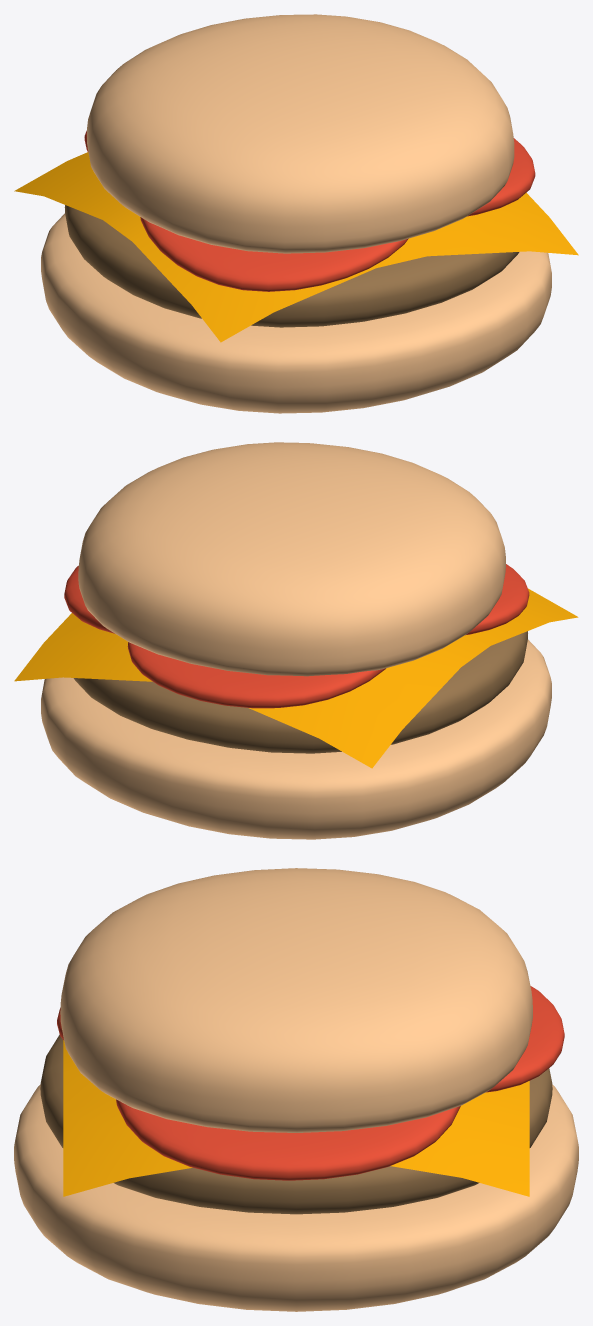
The model's file is burger.glb.
3 renders of one model, top to bottom at view 1: azimuth 30°, elevation 25°; view 2: azimuth 150°, elevation 25°; view 3: azimuth 270°, elevation 25°, orthographic. The views are drawn at different scales.
Visible parts, largest first — view 1: Cube.001, Cube, Plane, Cube.002, Cube.004, Cube.003; view 2: Cube.001, Cube, Plane, Cube.002, Cube.005, Cube.004, Cube.003; view 3: Cube.001, Cube, Plane, Cube.002, Cube.003, Cube.005.
Part boxes in pixels (x1=…): Cube.001: x1=87, y1=14, x2=514, y2=253; Cube: x1=41, y1=213, x2=551, y2=413; Plane: x1=14, y1=152, x2=578, y2=342; Cube.002: x1=64, y1=205, x2=519, y2=327; Cube.004: x1=140, y1=217, x2=408, y2=291; Cube.003: x1=467, y1=138, x2=535, y2=216; Cube.001: x1=78, y1=442, x2=505, y2=676; Cube: x1=41, y1=639, x2=551, y2=839; Plane: x1=14, y1=588, x2=578, y2=768; Cube.002: x1=73, y1=631, x2=527, y2=753; Cube.005: x1=127, y1=642, x2=385, y2=708; Cube.004: x1=465, y1=564, x2=529, y2=635; Cube.003: x1=64, y1=566, x2=114, y2=633; Cube.001: x1=60, y1=868, x2=532, y2=1132; Cube: x1=14, y1=1084, x2=578, y2=1311; Plane: x1=63, y1=1040, x2=529, y2=1196; Cube.002: x1=40, y1=1034, x2=552, y2=1214; Cube.003: x1=116, y1=1099, x2=460, y2=1180; Cube.005: x1=486, y1=986, x2=564, y2=1092.
Bounding box in the file's own units: 1.83 × 1.11 × 1.83.
